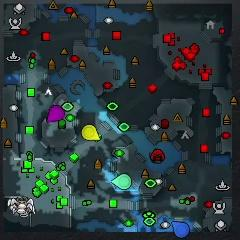p1: (172, 221, 190, 238)
p2: (112, 174, 132, 190)
p3: (47, 105, 65, 123)
p4: (82, 124, 101, 141)
